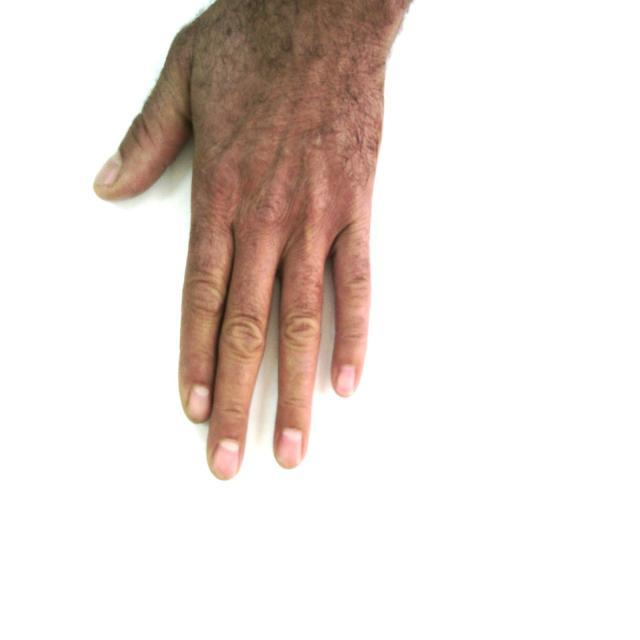Fingernail: (214, 441, 239, 480), (277, 429, 301, 467), (96, 154, 121, 186), (188, 386, 210, 422), (337, 366, 354, 395)
